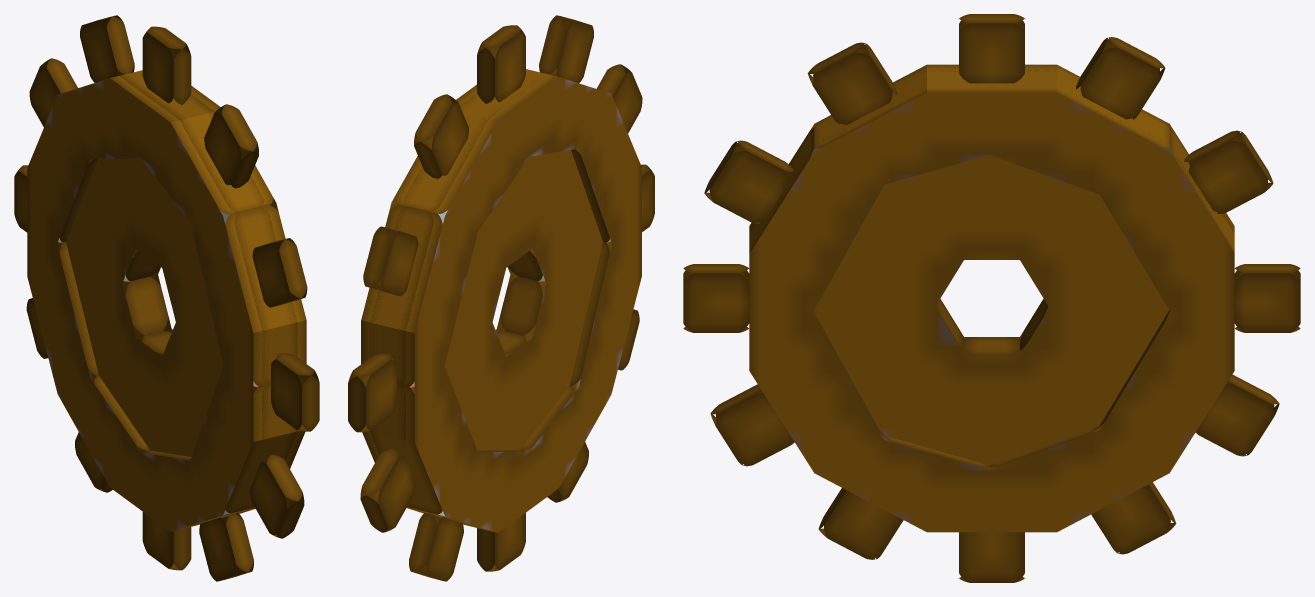
Rendered from Cog.fbx.
3 renders of one model, left to right at view 1: azimuth 30°, elevation 25°; view 2: azimuth 150°, elevation 25°; view 3: azimuth 270°, elevation 25°, orthographic. The views are drawn at different scales.
Parts seen in each view (by area): view 1: cylinder_2, cylinder_3, cylinder, cylinder_1, cube_3, cube_4, cube_9, cube_5, cube_8, cube_6, cube_2, cube_7 (+4 smaller); view 2: cylinder_2, cylinder_3, cylinder, cylinder_1, cube_2, cube, cube_10, cube_3, cube_1, cube_11, cube_9, cube_7 (+4 smaller); view 3: cylinder_2, cylinder_3, cylinder_1, cylinder, cube_9, cube_2, cube_8, cube_1, cube, cube_4, cube_3, cube_5 (+4 smaller).
Part boxes in pixels (x1,y1,x2,y2): cylinder_2: (27,70,306,388); cylinder_3: (27,223,305,531); cylinder: (66,70,297,384); cylinder_1: (57,242,297,518); cube_3: (142,26,191,104); cube_4: (271,353,319,431); cube_9: (204,104,258,188); cube_5: (249,454,304,538); cube_8: (252,238,307,307); cube_6: (199,513,253,581); cube_2: (80,15,134,82); cube_7: (142,512,191,570); cylinder_2: (361,69,641,388); cylinder_3: (362,223,641,532); cylinder: (370,69,602,385); cylinder_1: (370,241,611,530); cube_2: (414,94,468,178); cube: (348,353,396,432); cube_10: (360,448,415,532); cube_3: (477,25,525,103); cube_1: (363,226,418,296); cube_11: (409,512,463,581); cube_9: (539,15,593,83); cube_7: (477,513,525,571); cylinder_2: (749,64,1234,314); cylinder_3: (749,310,1234,532); cylinder_1: (813,299,1170,469); cylinder: (749,69,1234,309); cube_9: (807,42,897,124); cube_2: (1076,37,1165,119); cube_8: (704,140,793,223); cube_1: (1184,130,1273,213); cube: (1234,264,1300,332); cube_4: (683,264,749,332); cube_3: (959,14,1024,83); cube_5: (710,384,794,466).
Bounding box in the file's own units: 9.38 × 87.5 × 87.5.
1 material, 1 textured.
